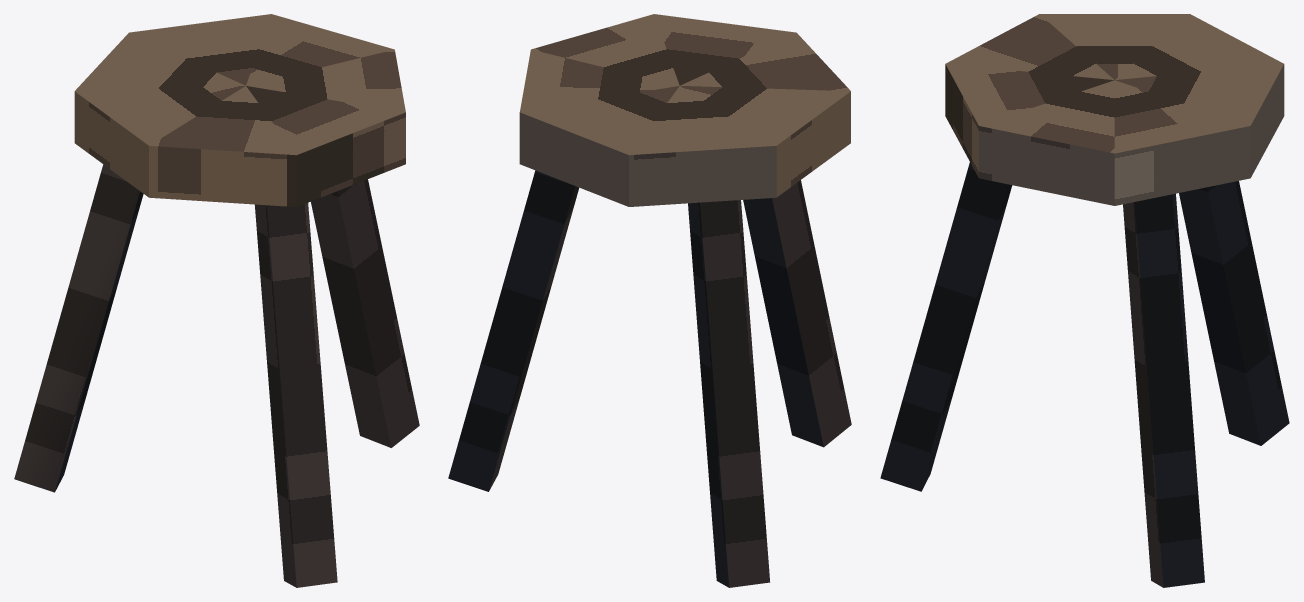
Rendered from mprop.bench__stool.glb.
3 views of the same model, side by side, from view 1: azimuth 30°, elevation 25°; view 2: azimuth 150°, elevation 25°; view 3: azimuth 270°, elevation 25° (orthographic).
Parts seen in each view (by area): view 1: kit_seat, kit_legs; view 2: kit_seat, kit_legs; view 3: kit_seat, kit_legs.
Part boxes in pixels (bbox=[...]): kit_seat: bbox=[74, 14, 405, 206]; kit_legs: bbox=[14, 164, 419, 587]; kit_seat: bbox=[519, 14, 850, 206]; kit_legs: bbox=[448, 170, 851, 587]; kit_seat: bbox=[945, 14, 1284, 205]; kit_legs: bbox=[880, 162, 1289, 587].
Size of the model in its own units: 0.4342 by 0.48 by 0.424.
2 materials, 2 textured.
